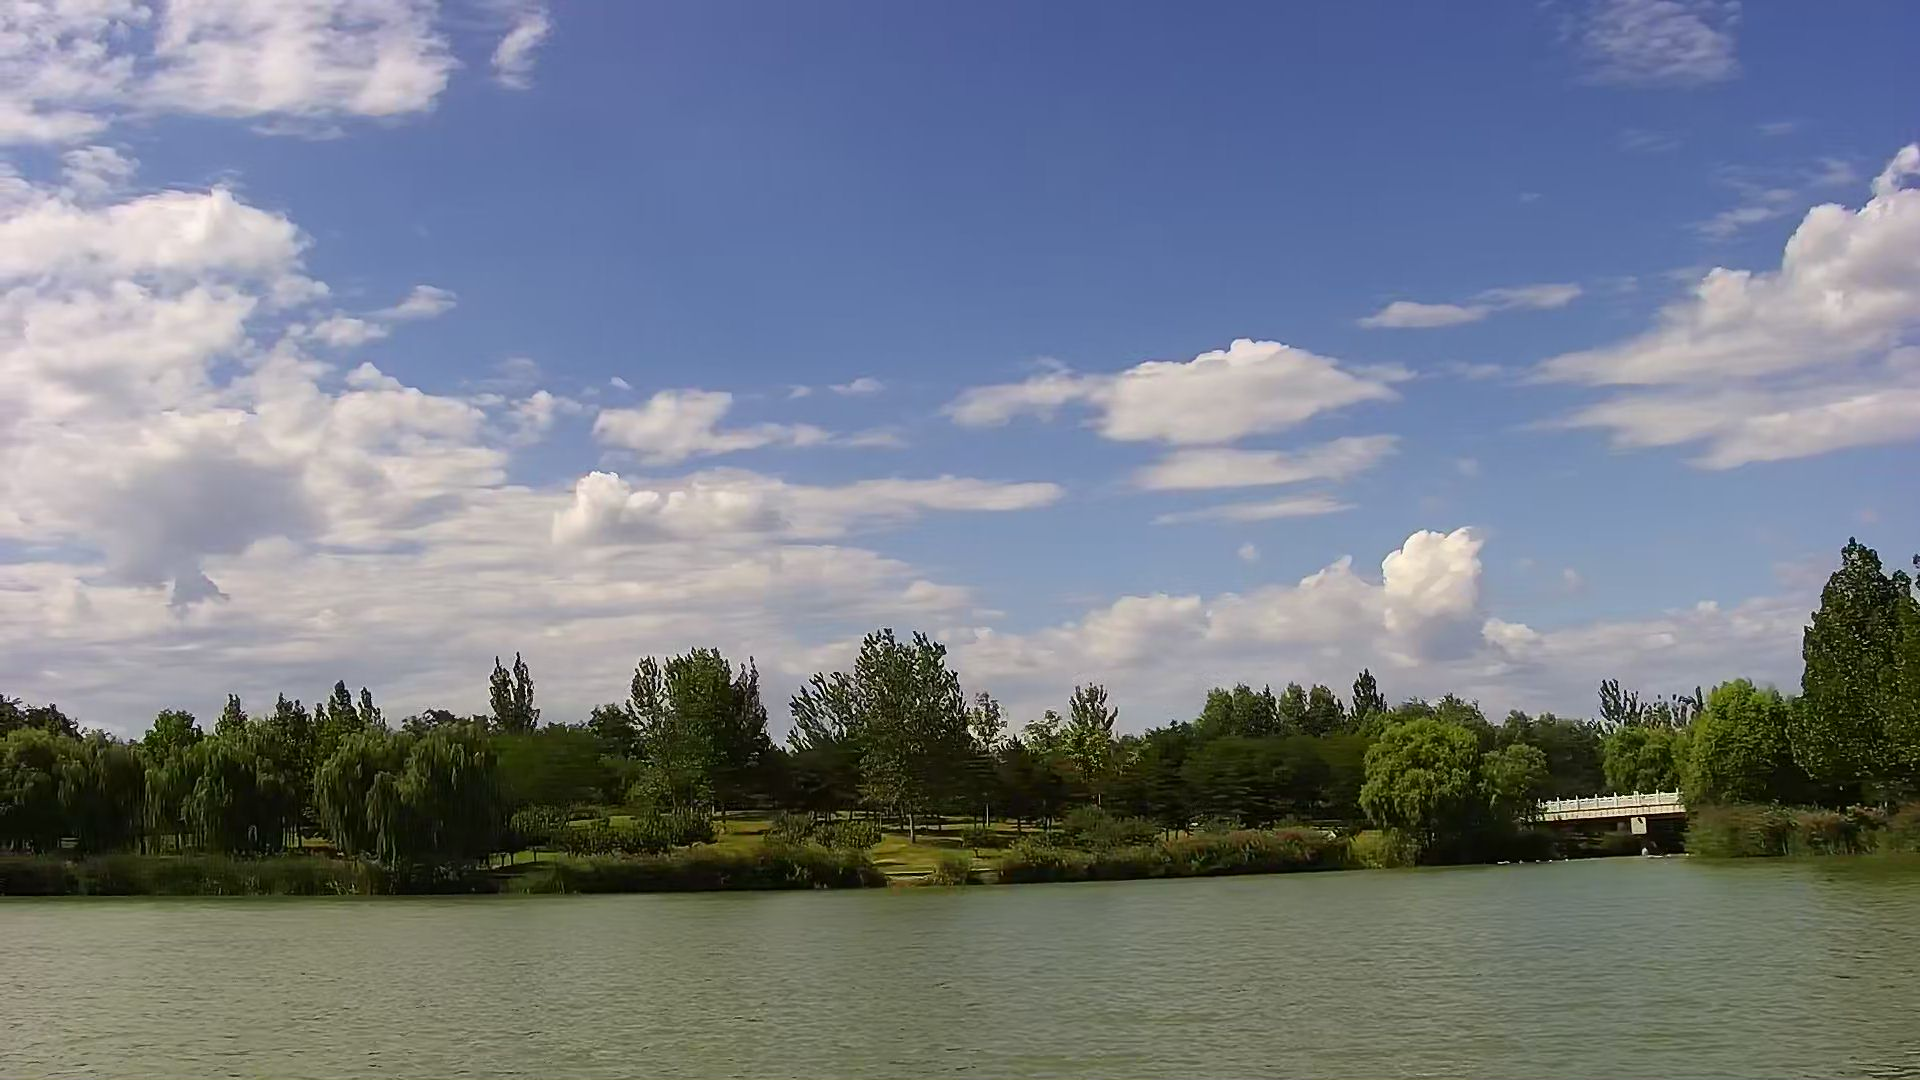bridge: (1539, 789, 1683, 857)
